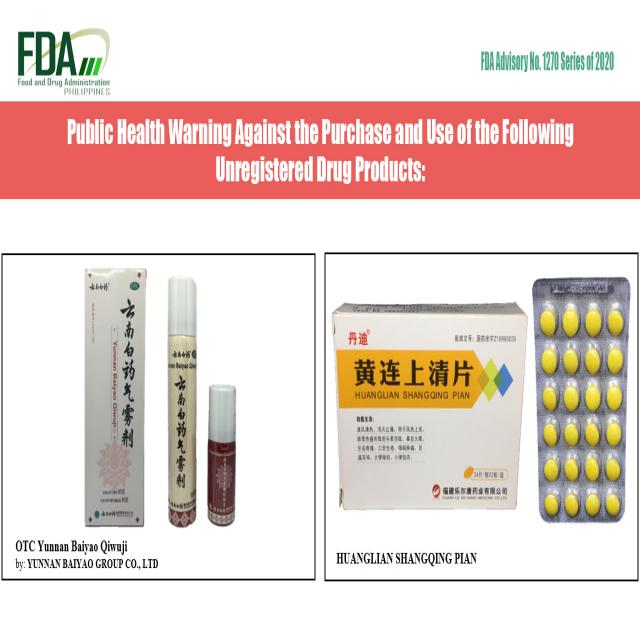counterfeit: (328, 302, 528, 508), (530, 272, 634, 526), (82, 257, 146, 537), (161, 268, 201, 540), (206, 375, 244, 535)
